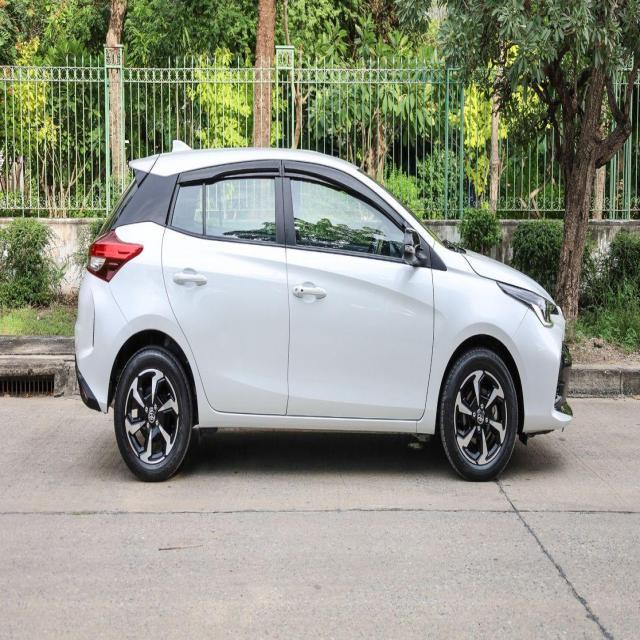Hatchback: (74, 143, 573, 484)
